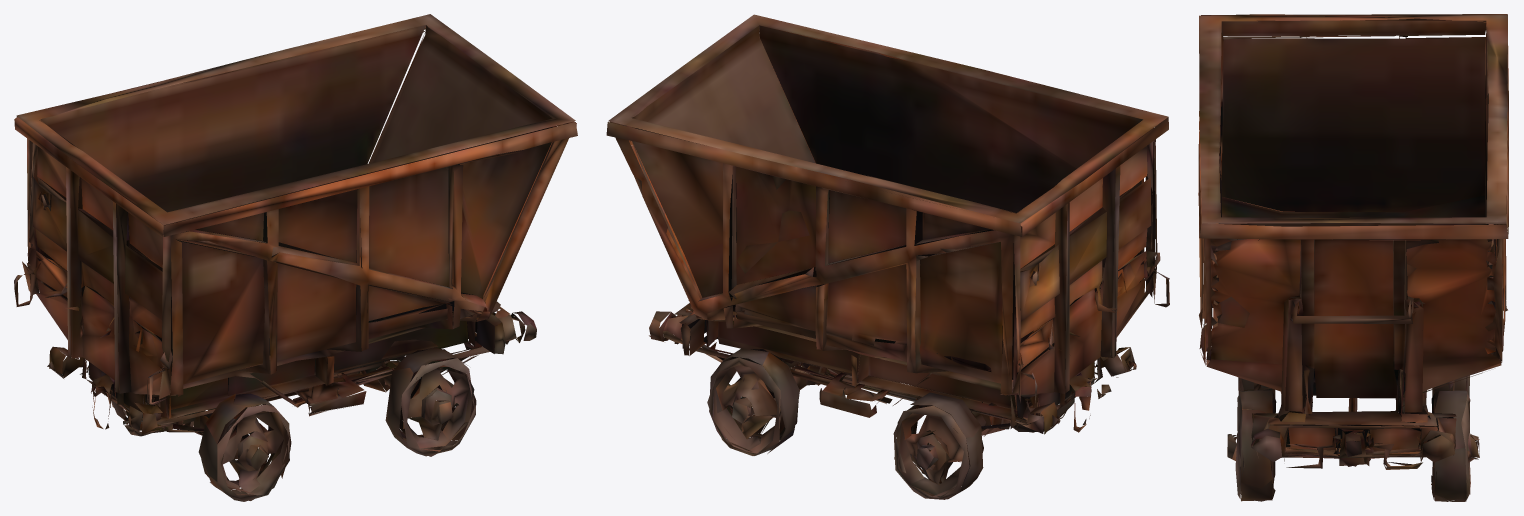
The model's file is carro_volteo.movil.glb.
3 renders of one model, left to right at view 1: azimuth 30°, elevation 25°; view 2: azimuth 150°, elevation 25°; view 3: azimuth 270°, elevation 25°, orthographic. The views are drawn at different scales.
Parts seen in each view (by area): view 1: geometry_0; view 2: geometry_0; view 3: geometry_0.
Boxes of the visible parts, box(x1,y1,x2,y2) form: geometry_0: box(14, 14, 577, 501); geometry_0: box(606, 14, 1169, 499); geometry_0: box(1198, 14, 1508, 501).
Bounding box in the file's own units: 1.8 × 1.3 × 1.09.
1 material, 1 textured.
